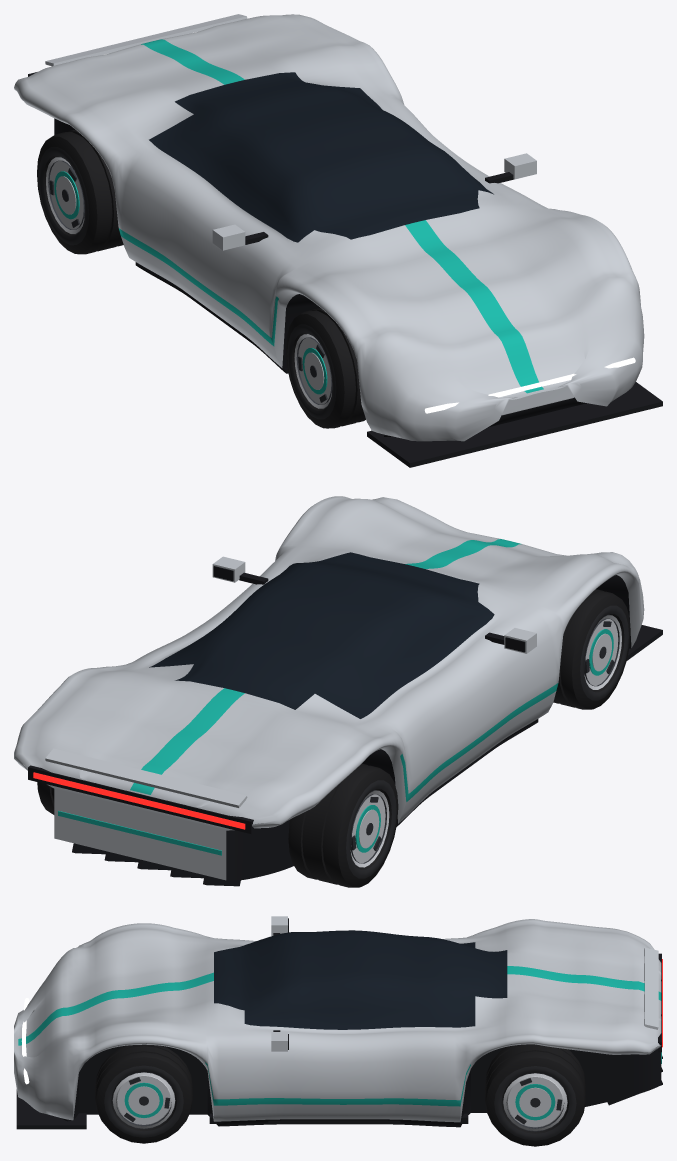
Rendered from arrow.glb.
3 views of the same model, one above another, from view 1: azimuth 30°, elevation 25°; view 2: azimuth 150°, elevation 25°; view 3: azimuth 270°, elevation 25° (orthographic). The views are drawn at different scales.
Visible parts, largest first — view 1: body, wheel_RR, wheel_FR; view 2: body, wheel_RR, wheel_FR; view 3: body, wheel_RL, wheel_FL.
Part boxes in pixels (x1,y1,x2,y2): body: [14, 14, 662, 467]; wheel_RR: [37, 129, 123, 254]; wheel_FR: [286, 308, 365, 428]; body: [14, 496, 662, 886]; wheel_RR: [288, 763, 398, 887]; wheel_FR: [553, 589, 630, 709]; body: [14, 916, 662, 1129]; wheel_RL: [485, 1044, 585, 1146]; wheel_FL: [95, 1044, 192, 1143].
Size of the model in its own units: 2.11 by 1.07 by 4.64.
13 materials, 1 textured.
